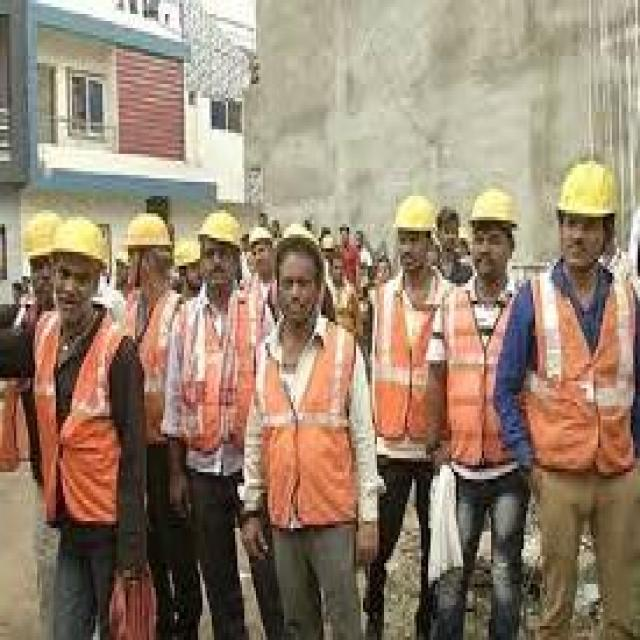Reflective-Jacket: (519, 266, 640, 482), (258, 318, 361, 535), (30, 315, 128, 542), (440, 283, 519, 479)
Safety-Helmet: (552, 150, 624, 224), (51, 210, 112, 273), (465, 178, 526, 234), (21, 206, 67, 266), (391, 189, 440, 241), (124, 210, 174, 255), (196, 206, 244, 252), (277, 217, 326, 259)
